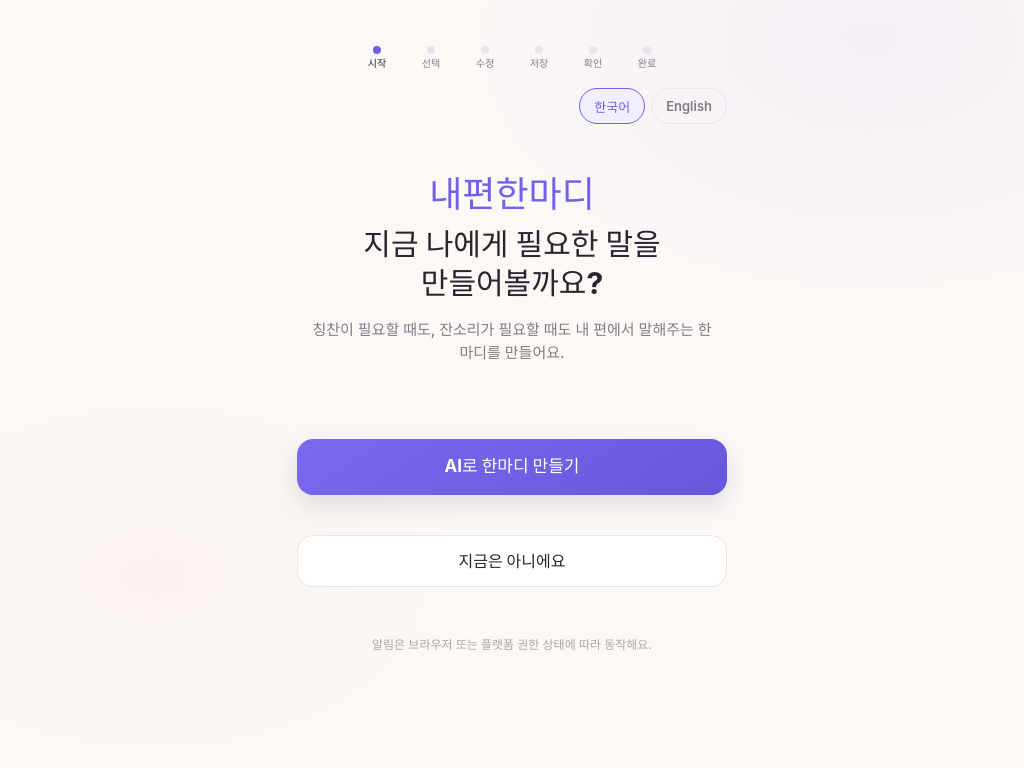
Test: 칭찬해줘 v0.4 home + check-in flow › closes the axis picker with Escape after moving focus into the sheet
Click the button "AI로 한마디 만들기": (512, 467) [297,439,727,495]
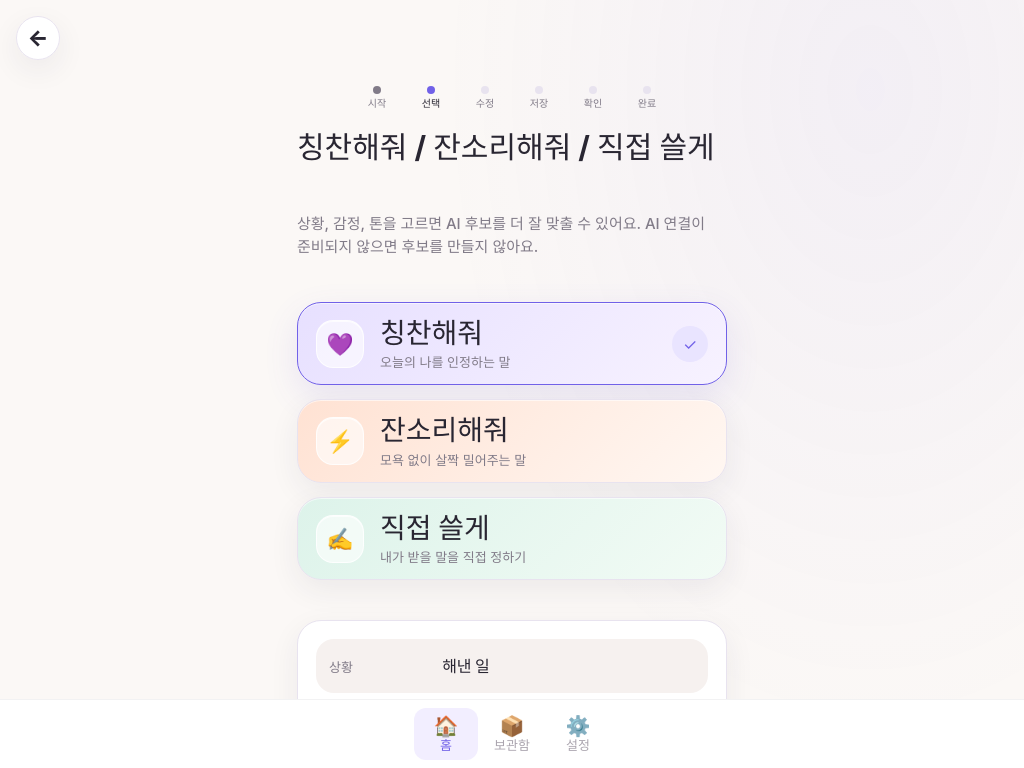
Click the button "상황 해낸 일": (466, 666) [316,639,708,693]
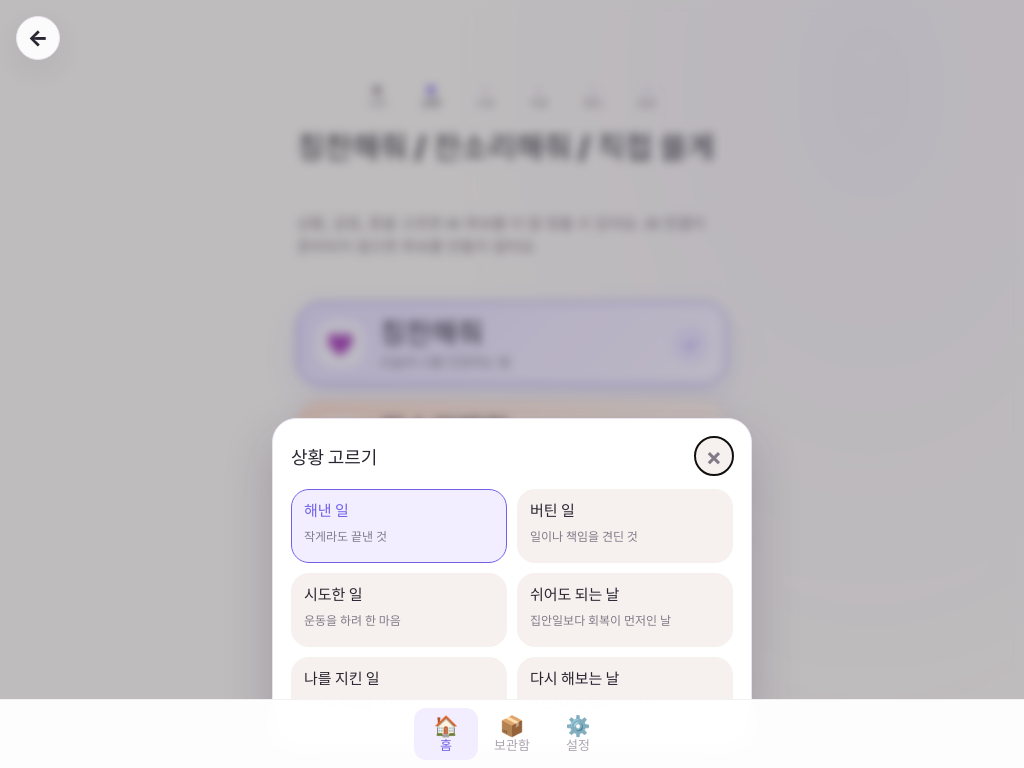
Expected: the dialog "상황 고르기" is shown, [272,418,752,750]
Press Escape
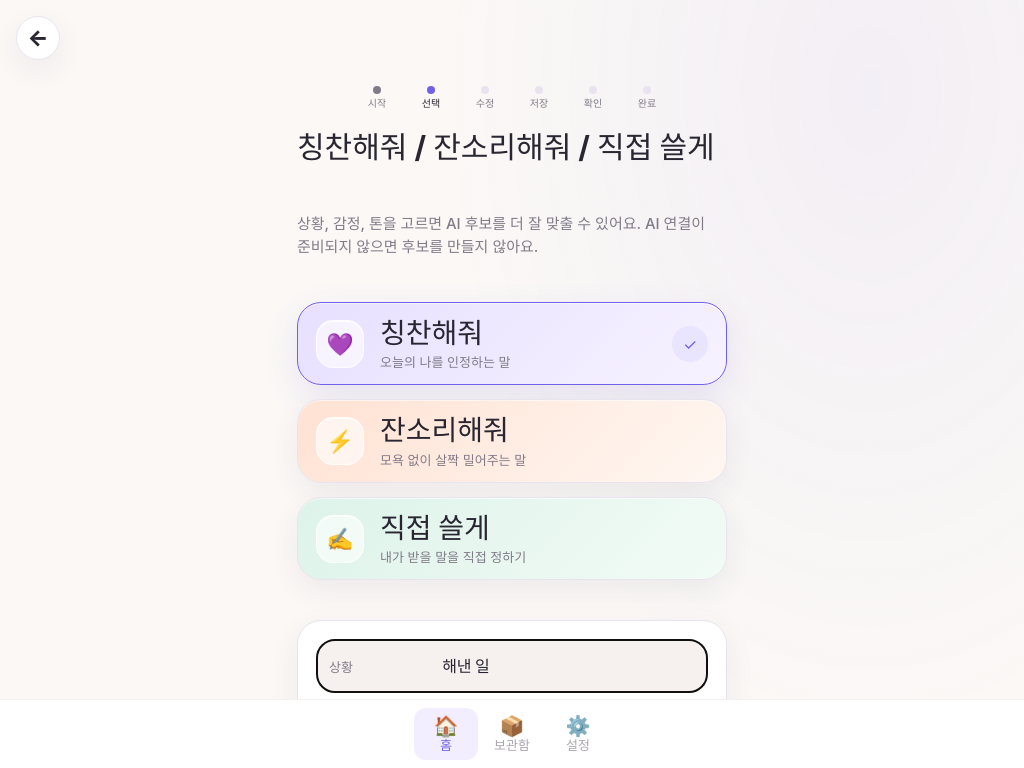
Expected: the heading "상황 고르기" is gone
